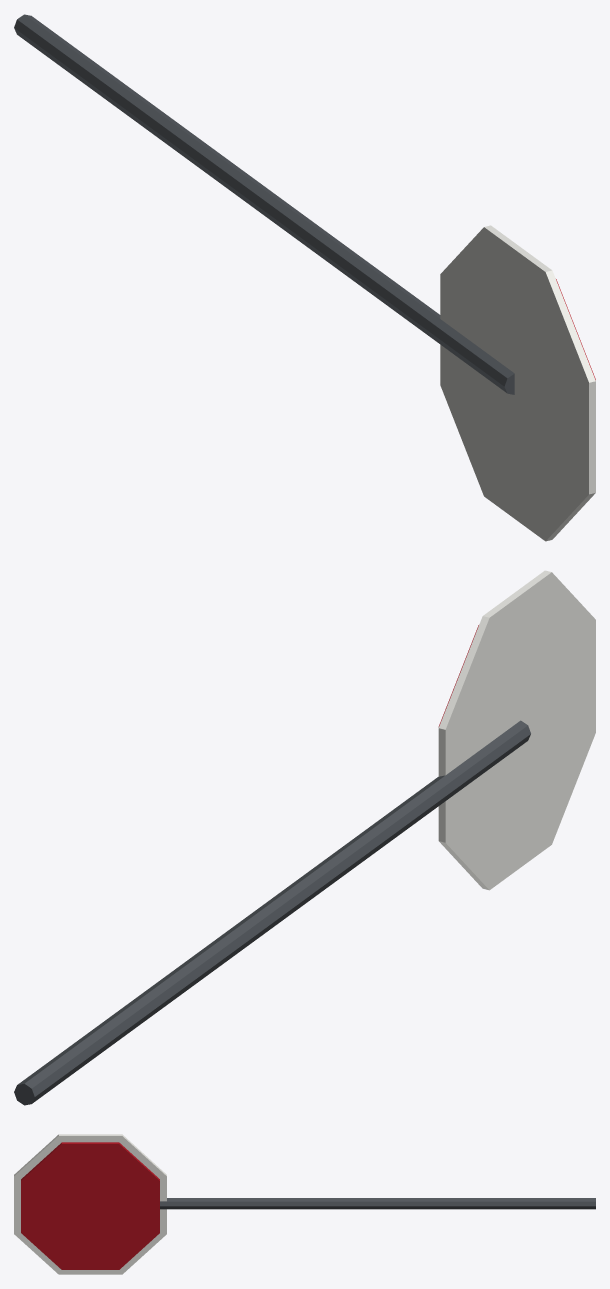
The model's file is sign_us_r1_1.obj.
The picture shows the model from 3 angles, top to bottom: view 1: azimuth 30°, elevation 25°; view 2: azimuth 150°, elevation 25°; view 3: azimuth 270°, elevation 25°; orthographic projection. The views are drawn at different scales.
Visible parts, largest first — view 1: sign_us_r1_1_border, sign_us_r1_1_post; view 2: sign_us_r1_1_border, sign_us_r1_1_post; view 3: sign_us_r1_1_field, sign_us_r1_1_post, sign_us_r1_1_border.
Boxes of the visible parts, x1,y1,x2,y2 form: sign_us_r1_1_border: (440,225,595,541); sign_us_r1_1_post: (14,14,514,394); sign_us_r1_1_border: (438,570,595,890); sign_us_r1_1_post: (14,720,530,1105); sign_us_r1_1_field: (21,1142,159,1269); sign_us_r1_1_post: (160,1198,595,1209); sign_us_r1_1_border: (14,1134,166,1274).
Bounding box in the file's own units: 0.07 × 0.75 × 2.85.
